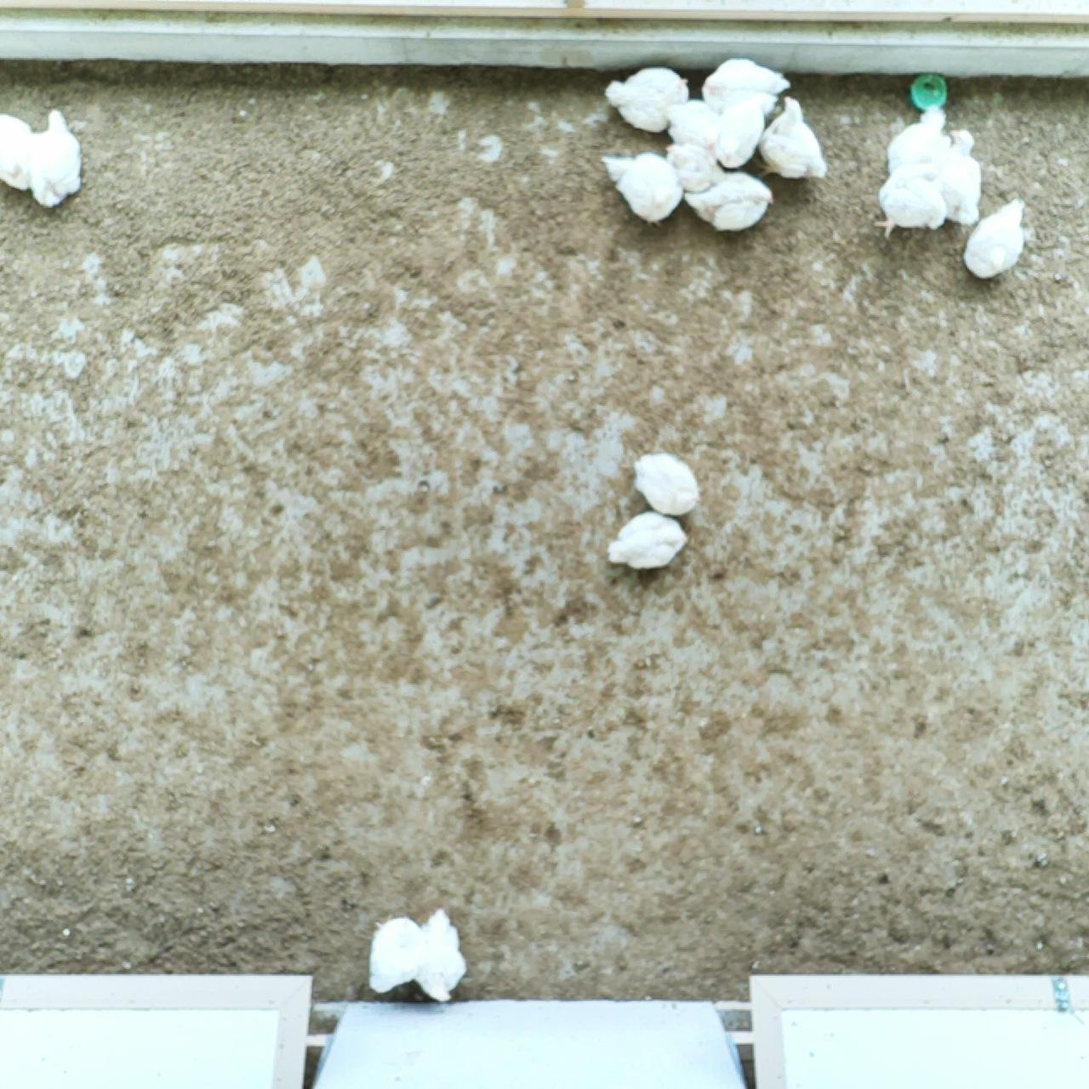chicken: (598, 150, 685, 230), (751, 95, 829, 182), (867, 162, 948, 242), (603, 65, 691, 135), (28, 108, 86, 210), (412, 908, 472, 1006), (683, 171, 776, 234), (961, 195, 1027, 283), (931, 128, 983, 228), (698, 57, 793, 111), (606, 510, 690, 571), (631, 450, 704, 519), (365, 912, 425, 995), (886, 103, 952, 175), (702, 96, 765, 170), (658, 98, 733, 146), (662, 143, 727, 195), (0, 113, 36, 194)
